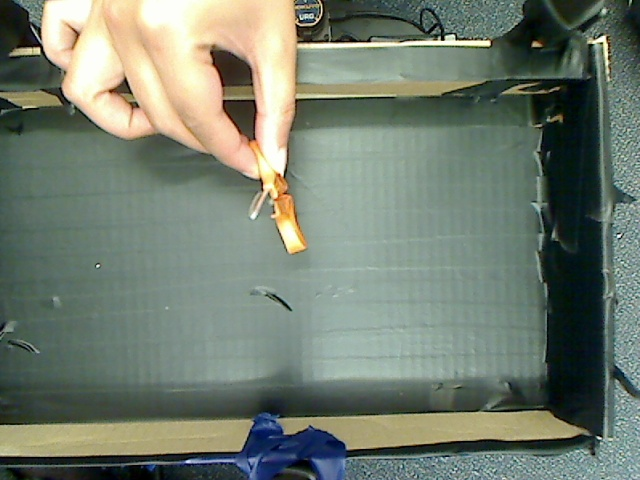scissors: (235, 128, 310, 264)
